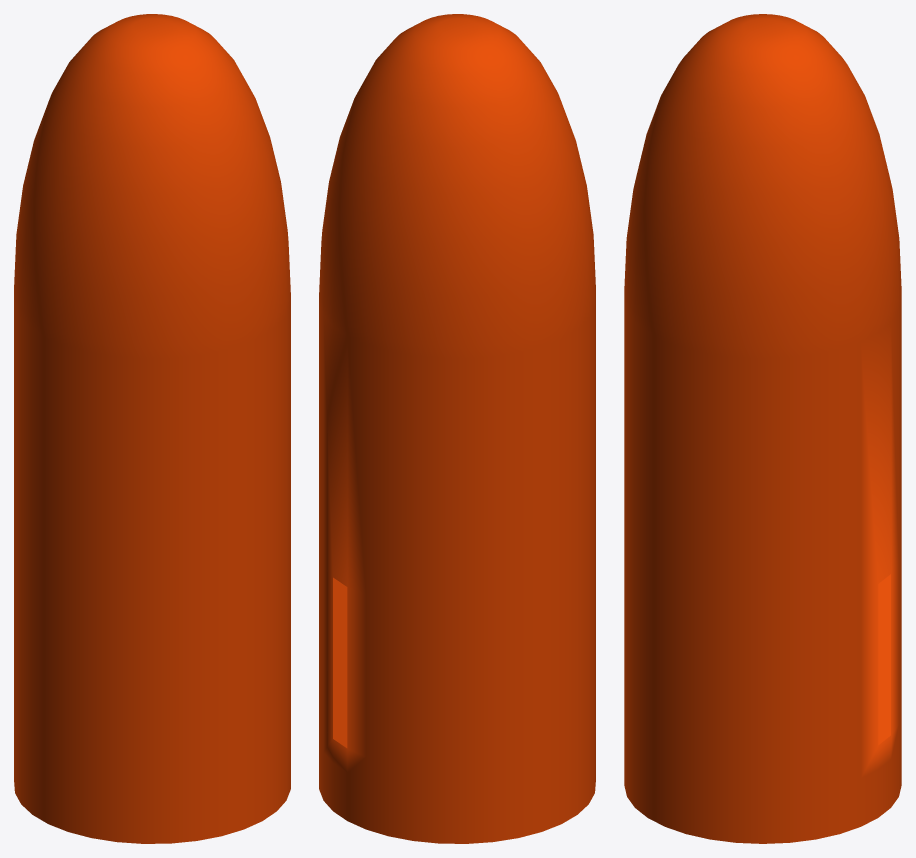
File: Bullet_Model.fbx
3 views of the same model, side by side, from view 1: azimuth 30°, elevation 25°; view 2: azimuth 150°, elevation 25°; view 3: azimuth 270°, elevation 25° (orthographic).
Visible parts, largest first — view 1: Bullet; view 2: Bullet; view 3: Bullet.
Boxes of the visible parts, box(x1,y1,x2,y2) form: Bullet: box(14, 14, 290, 843); Bullet: box(319, 14, 595, 843); Bullet: box(624, 14, 901, 843).
Size of the model in its own units: 0.02 by 0.0603 by 0.02.
